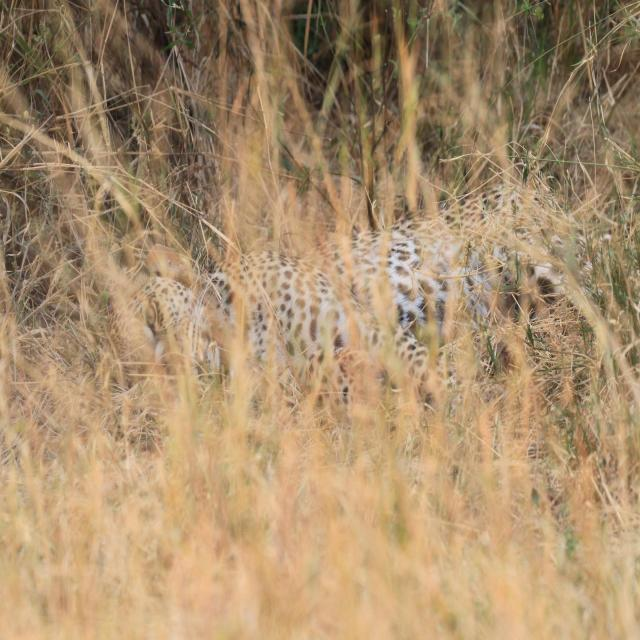Leopard: (104, 199, 614, 398)
